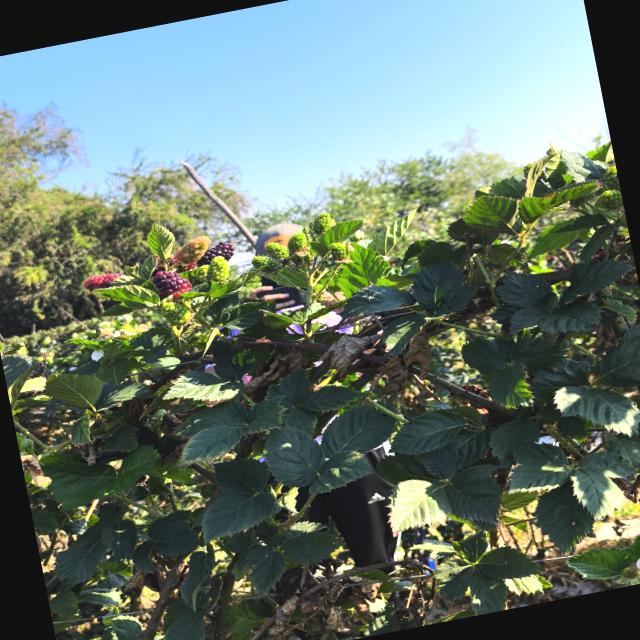marron: (153, 271, 191, 298), (199, 242, 235, 265), (83, 273, 121, 291)
verde: (175, 236, 211, 263), (207, 256, 230, 282), (252, 255, 282, 274), (311, 213, 335, 234), (265, 241, 290, 260), (287, 232, 308, 252)
